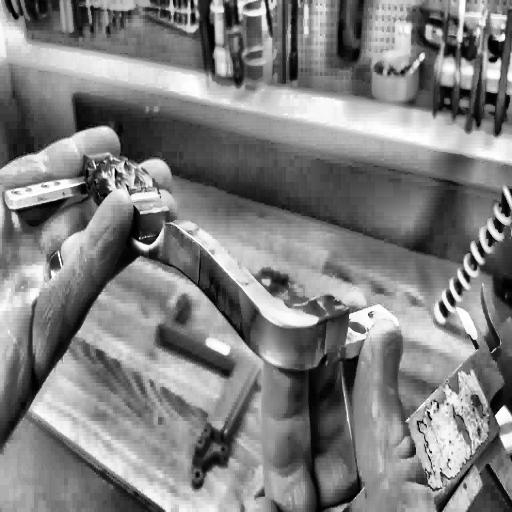busbar: (2, 138, 404, 377)
